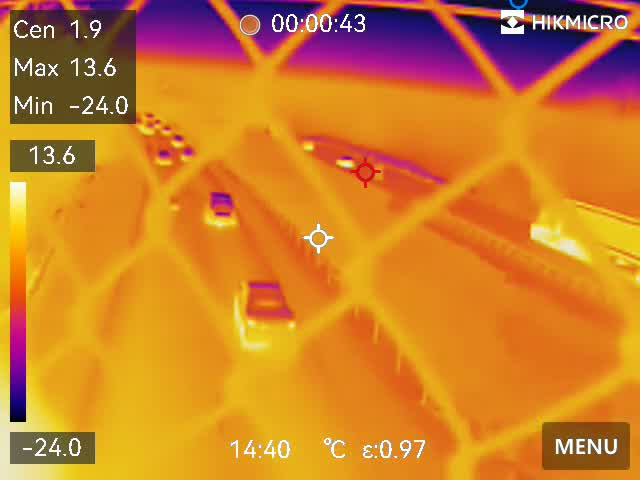heavyTruck: (530, 193, 640, 283)
vehicle: (239, 274, 302, 355), (196, 183, 239, 233), (149, 147, 172, 169), (181, 143, 200, 166), (335, 154, 357, 171), (170, 133, 185, 149), (143, 112, 158, 127), (158, 122, 174, 135)
